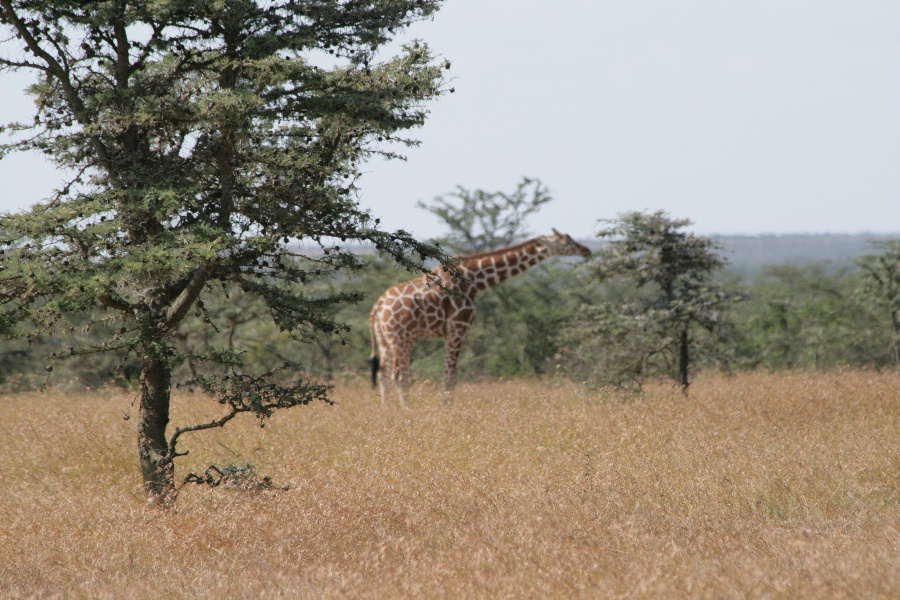giraffe: (359, 221, 598, 413)
